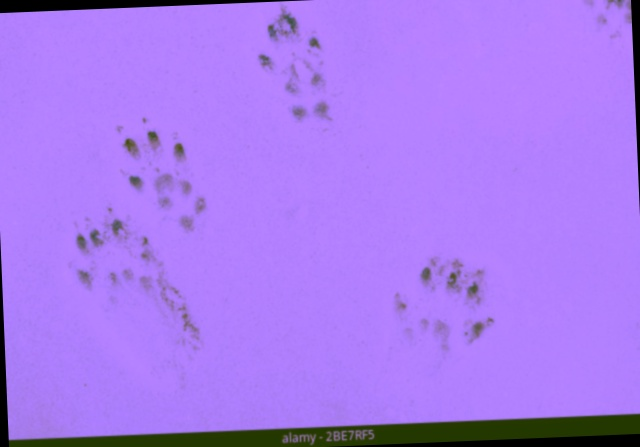ecureuil: (57, 102, 221, 358), (245, 1, 351, 142), (382, 245, 497, 371)
